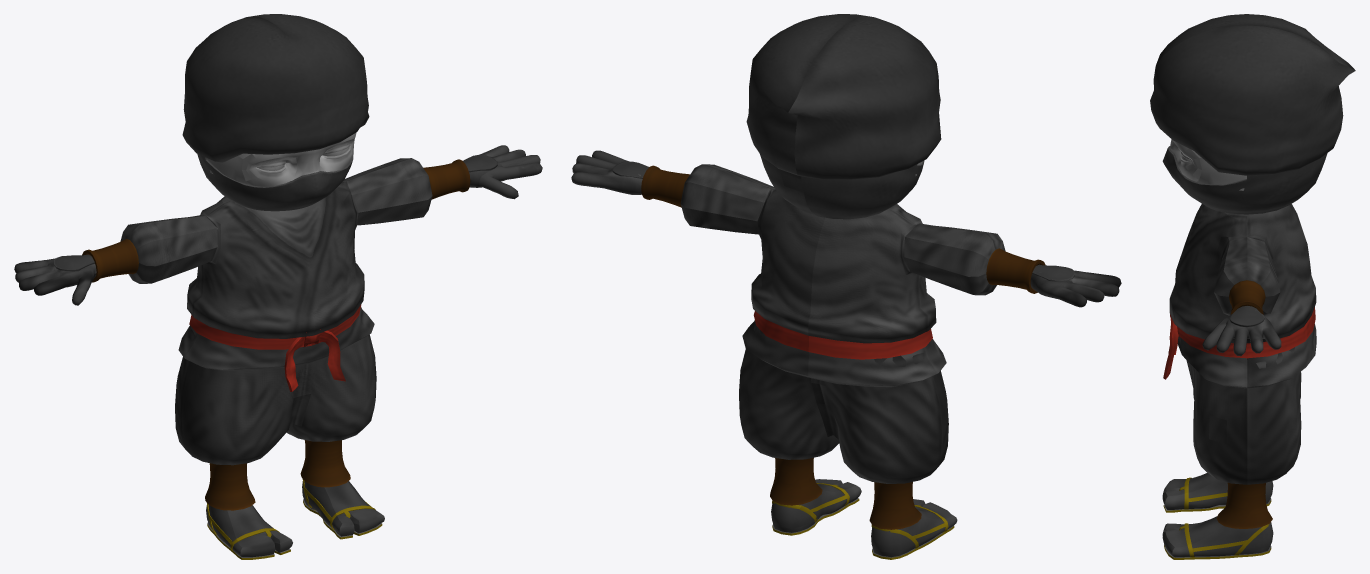
File: ninja.obj
The picture shows the model from 3 angles, left to right: view 1: azimuth 30°, elevation 25°; view 2: azimuth 150°, elevation 25°; view 3: azimuth 270°, elevation 25°; orthographic projection. The views are drawn at different scales.
Parts seen in each view (by area): view 1: Mini_Ninja; view 2: Mini_Ninja; view 3: Mini_Ninja.
Part boxes in pixels (box(x1,y1,x2,y2)): Mini_Ninja: box(14, 14, 542, 559); Mini_Ninja: box(571, 14, 1121, 559); Mini_Ninja: box(1150, 14, 1355, 559).
Size of the model in its own units: 32.46 by 29.24 by 10.92.
Materials: 1 (1 with a texture image).
